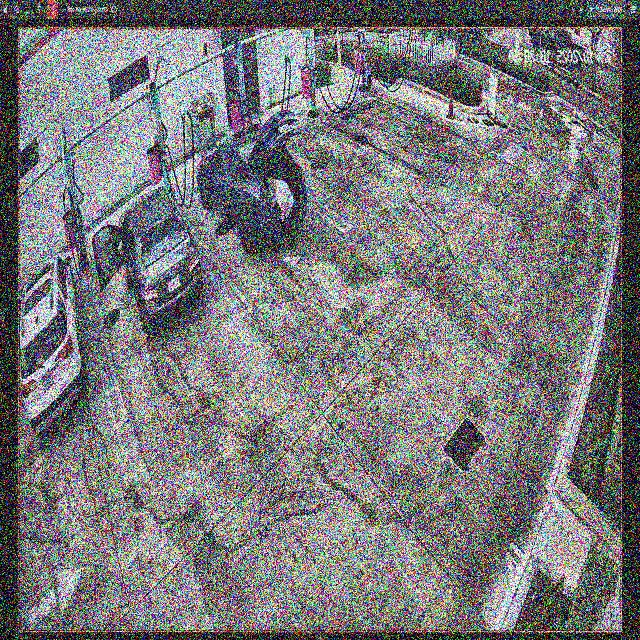Car: (198, 110, 306, 258), (94, 189, 203, 321)
